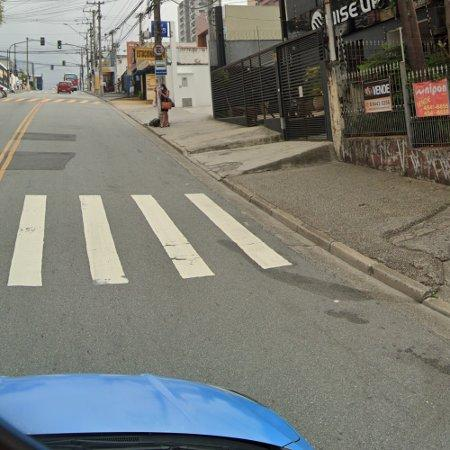crosswalks: (3, 191, 304, 291)
